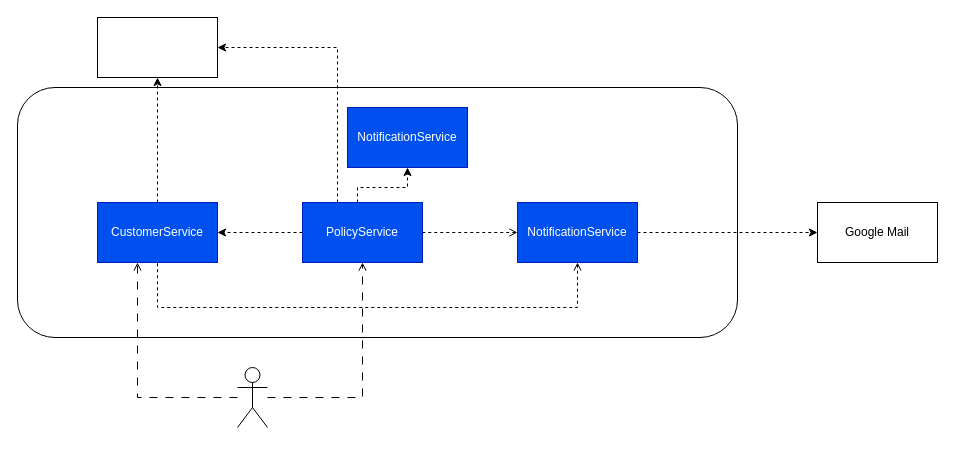
This 955x466 diagram has some shape labels left out. The shapes that lost their labels are listed below. From the top down, each one's centre as x and y in pixels, then its label:
pixel 157 47: MariaDB
pixel 252 397: Benutzer
